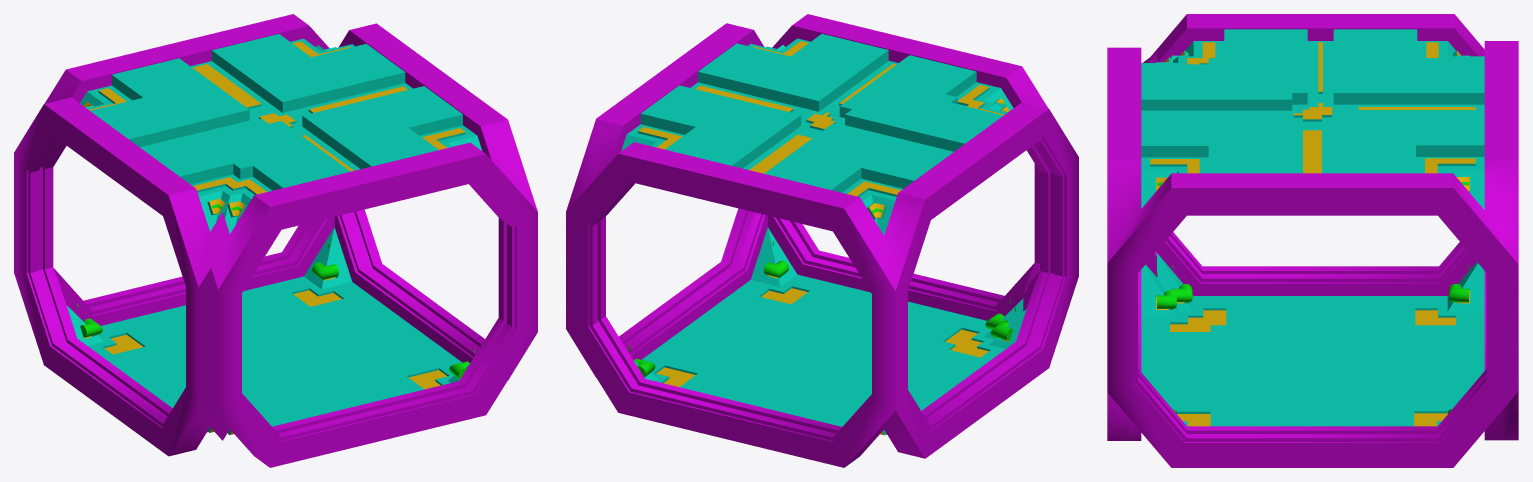
File: sf2_four.fbx
The picture shows the model from 3 angles, left to right: view 1: azimuth 30°, elevation 25°; view 2: azimuth 150°, elevation 25°; view 3: azimuth 270°, elevation 25°; orthographic projection. The views are drawn at different scales.
Parts seen in each view (by area): view 1: Shape005; view 2: Shape005; view 3: Shape005.
Boxes of the visible parts, bbox=[...] form: Shape005: bbox=[14, 14, 537, 467]; Shape005: bbox=[566, 14, 1078, 467]; Shape005: bbox=[1107, 14, 1518, 467].
Size of the model in its own units: 74.54 by 56 by 74.54.
